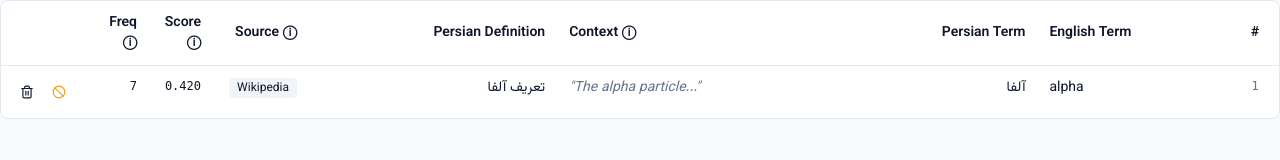
Test case: GlossaryTable › cancels edit with Escape
Click the text "آلفا". click: (1016, 88)
box: [1006,77,1025,99]
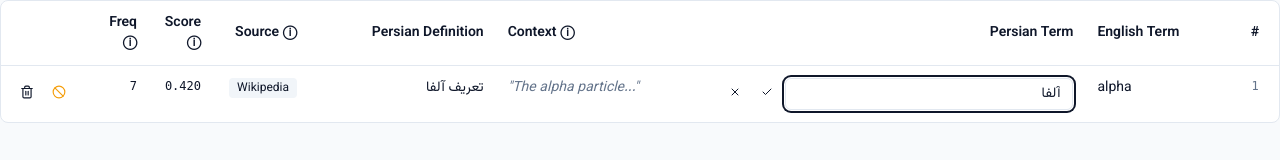
Replace the text in the field showing "آلفا" with "changed". click: (929, 94)
box: [785,78,1073,110]
Then press Escape
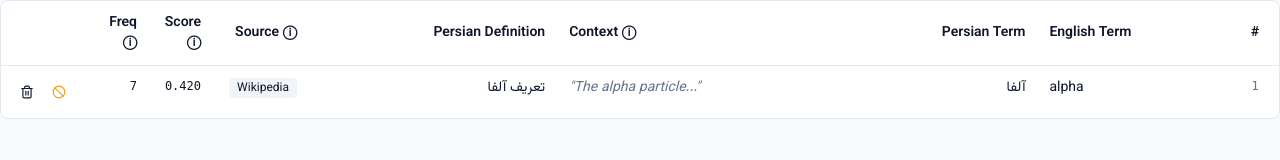
expect the text "آلفا" is shown: met, box [1006,77,1025,99]
